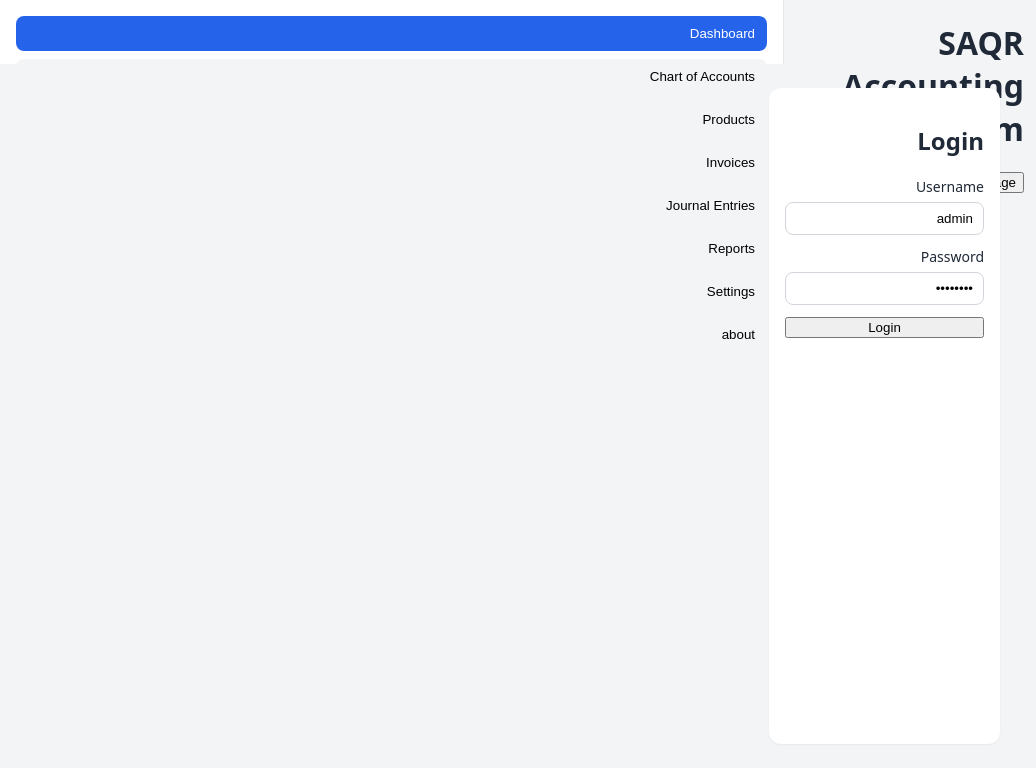
Scenario: App Component › Login Form › displays error message on login failure
This screenshot has width=1036, height=768.
Click the button "Login".
click(884, 327)  # box 785,317 -> 984,338
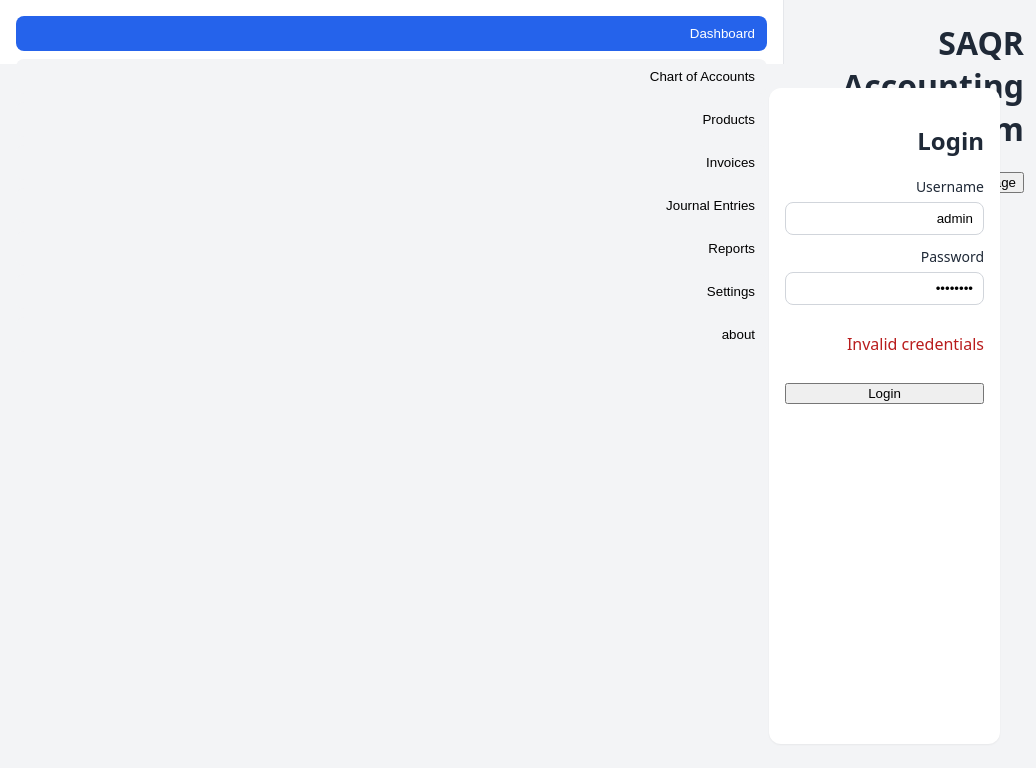
Expected: the text "Invalid credentials" is shown, 847,333 -> 984,355
